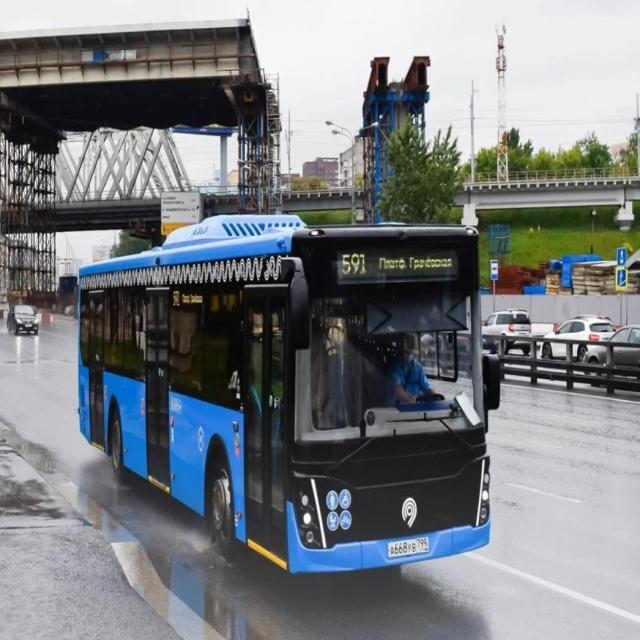bus: (76, 210, 496, 577)
